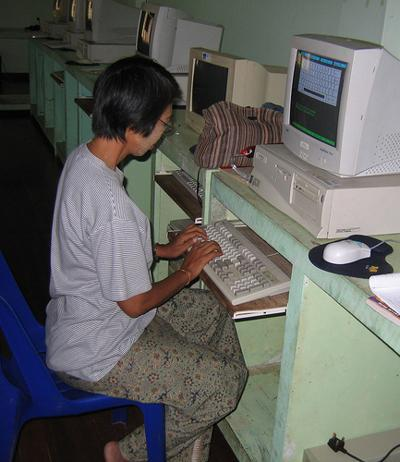person: (44, 55, 249, 462)
